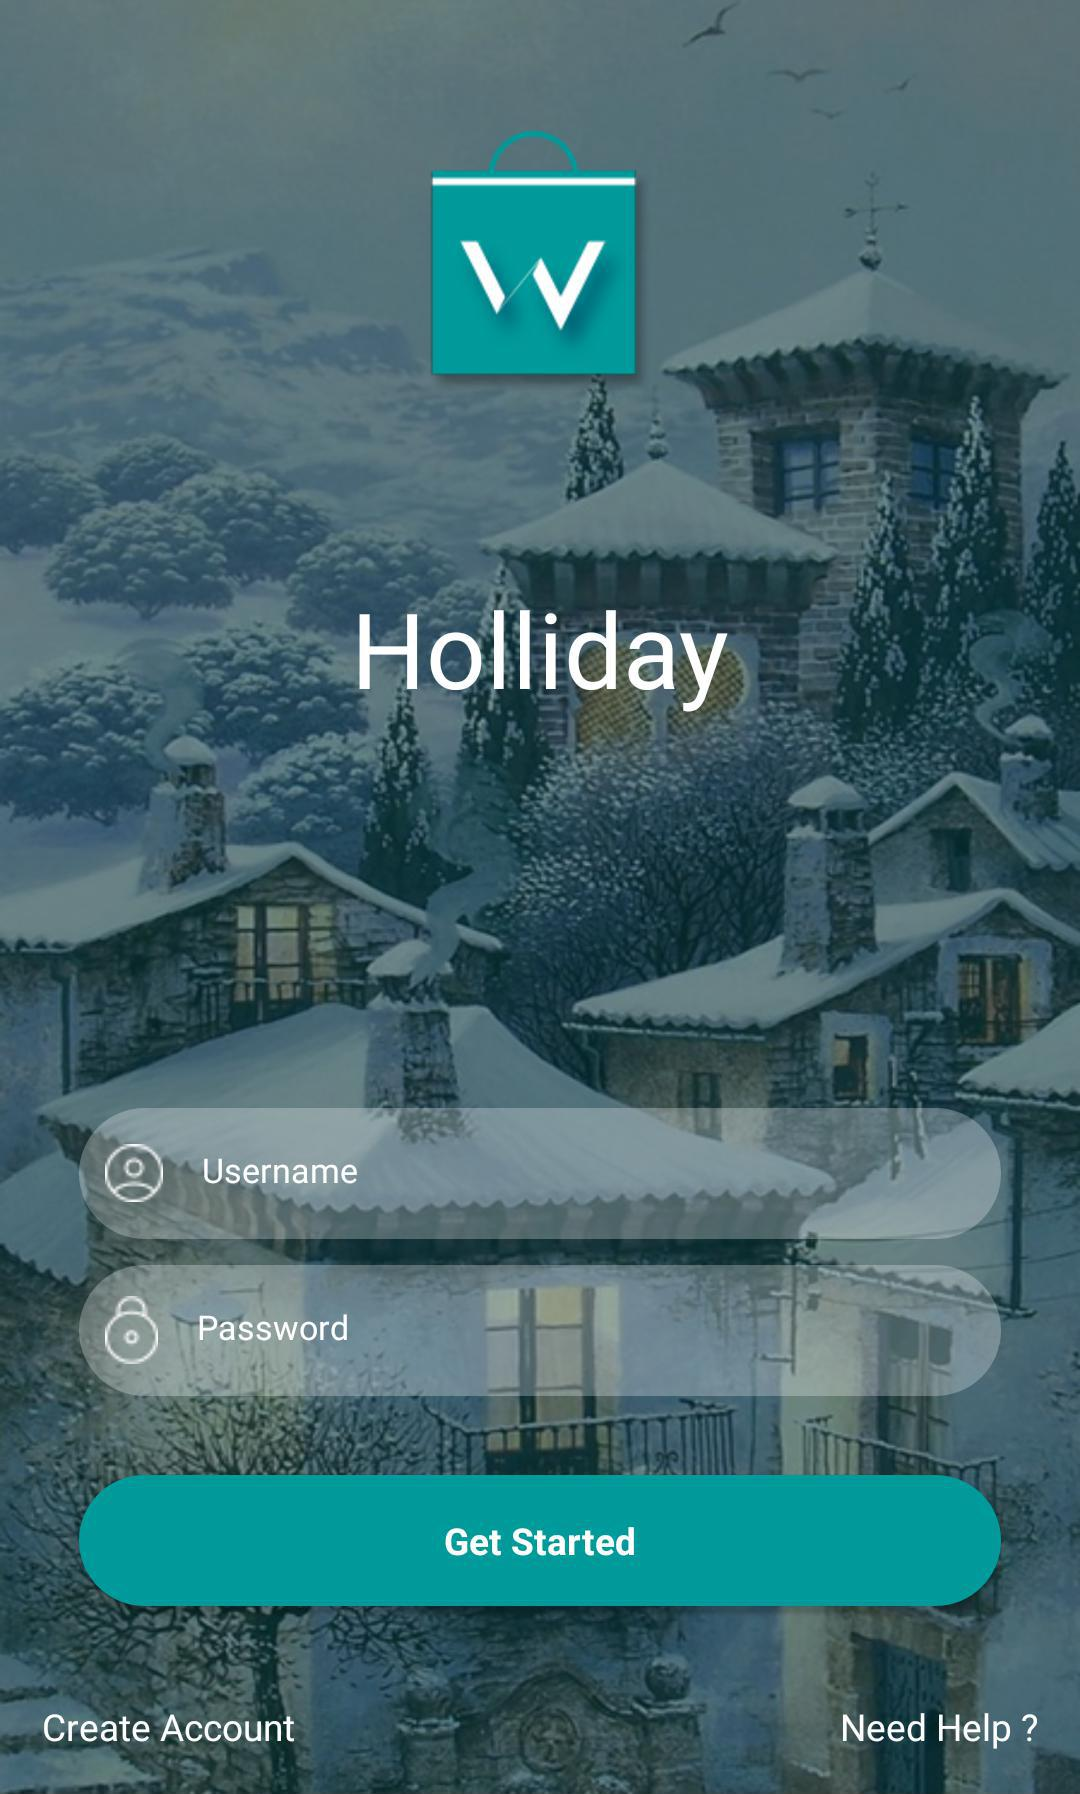BackgroundImage: (1, 1, 1080, 1794)
EditText: (79, 1108, 1002, 1240), (79, 1265, 1002, 1397)
Icon: (105, 1296, 160, 1365), (106, 1144, 165, 1203)
Image: (432, 129, 637, 375)
Text: (359, 610, 729, 712), (842, 1712, 1038, 1750), (44, 1713, 296, 1743), (204, 1158, 360, 1185), (200, 1313, 348, 1342)
TextButton: (79, 1474, 1002, 1607)
